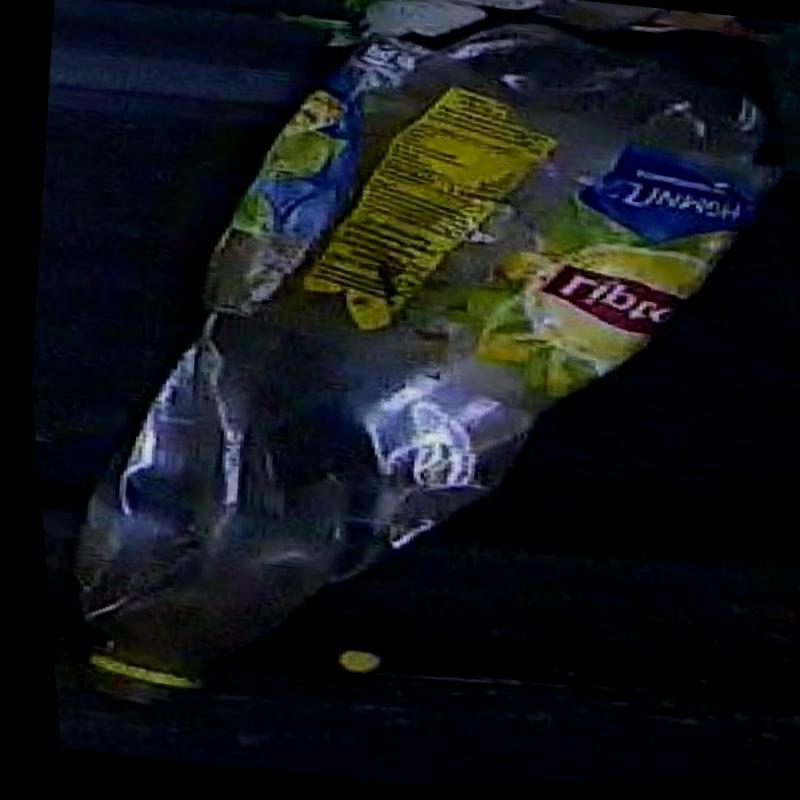botella: (19, 0, 800, 797)
